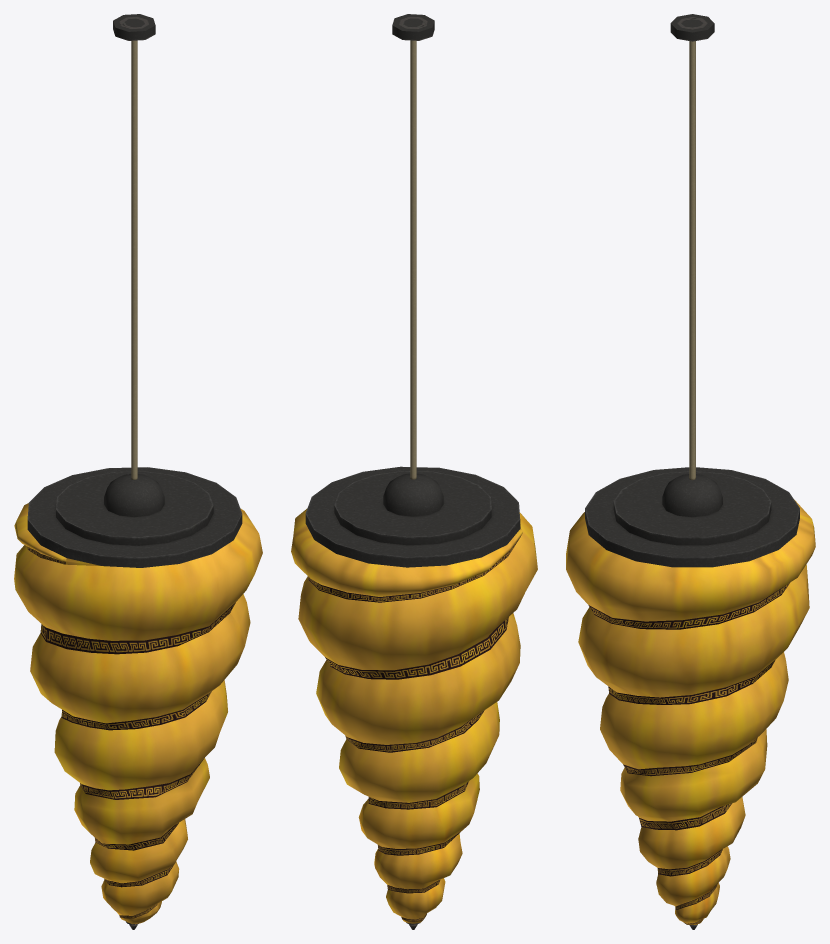
Rendered from MD_Lamp06.fbx.
The picture shows the model from 3 angles, left to right: view 1: azimuth 30°, elevation 25°; view 2: azimuth 150°, elevation 25°; view 3: azimuth 270°, elevation 25°; orthographic projection.
Visible parts, largest first — view 1: MD_Lamp06; view 2: MD_Lamp06; view 3: MD_Lamp06.
Boxes of the visible parts, x1,y1,x2,y2 form: MD_Lamp06: (14,14,262,929); MD_Lamp06: (291,14,537,929); MD_Lamp06: (566,14,815,929).
Bounding box in the file's own units: 0.7817 × 3.16 × 0.7891.
